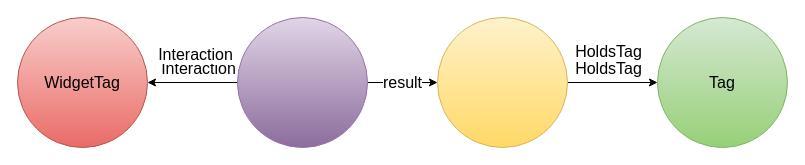
Some shapes in this 805 by 165 pixel diagram are drawn without their labels. The centre of each missing label's shape, as x and y in pixels:
Behavior: point (302, 82)
Item: point (502, 82)
